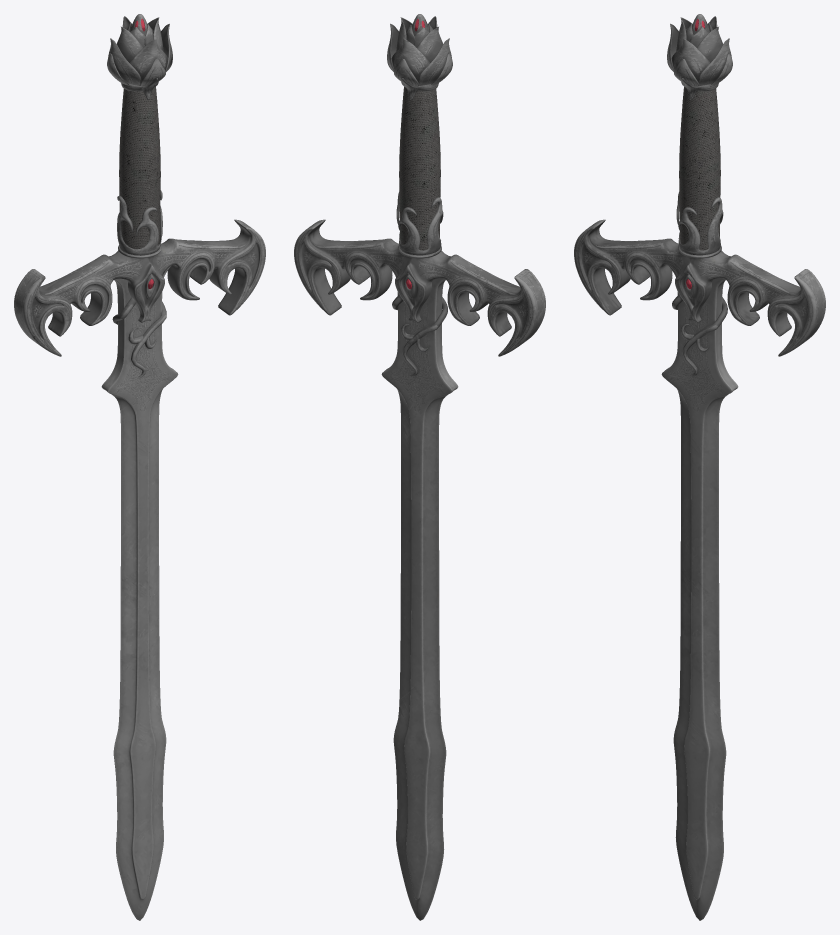
The model's file is sword11-transformed.glb.
The picture shows the model from 3 angles, left to right: view 1: azimuth 30°, elevation 25°; view 2: azimuth 150°, elevation 25°; view 3: azimuth 330°, elevation 25°; orthographic projection.
Visible parts, largest first — view 1: Sword_DefaultMaterial_0; view 2: Sword_DefaultMaterial_0; view 3: Sword_DefaultMaterial_0.
Part boxes in pixels (x1,y1,x2,y2): Sword_DefaultMaterial_0: (14,14,265,920); Sword_DefaultMaterial_0: (294,14,545,920); Sword_DefaultMaterial_0: (574,14,825,920).
Bounding box in the file's own units: 0.7176 × 2.57 × 0.1839.
1 material, 1 textured.
